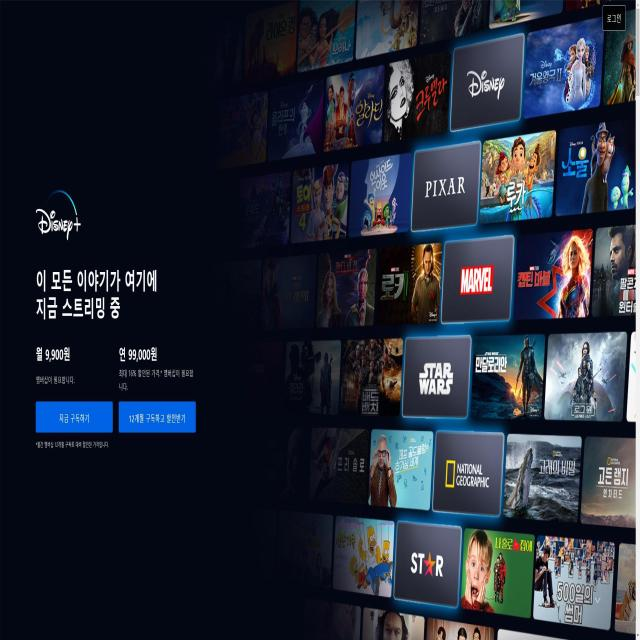button: (36, 401, 113, 433), (119, 401, 196, 433), (603, 5, 626, 31)
